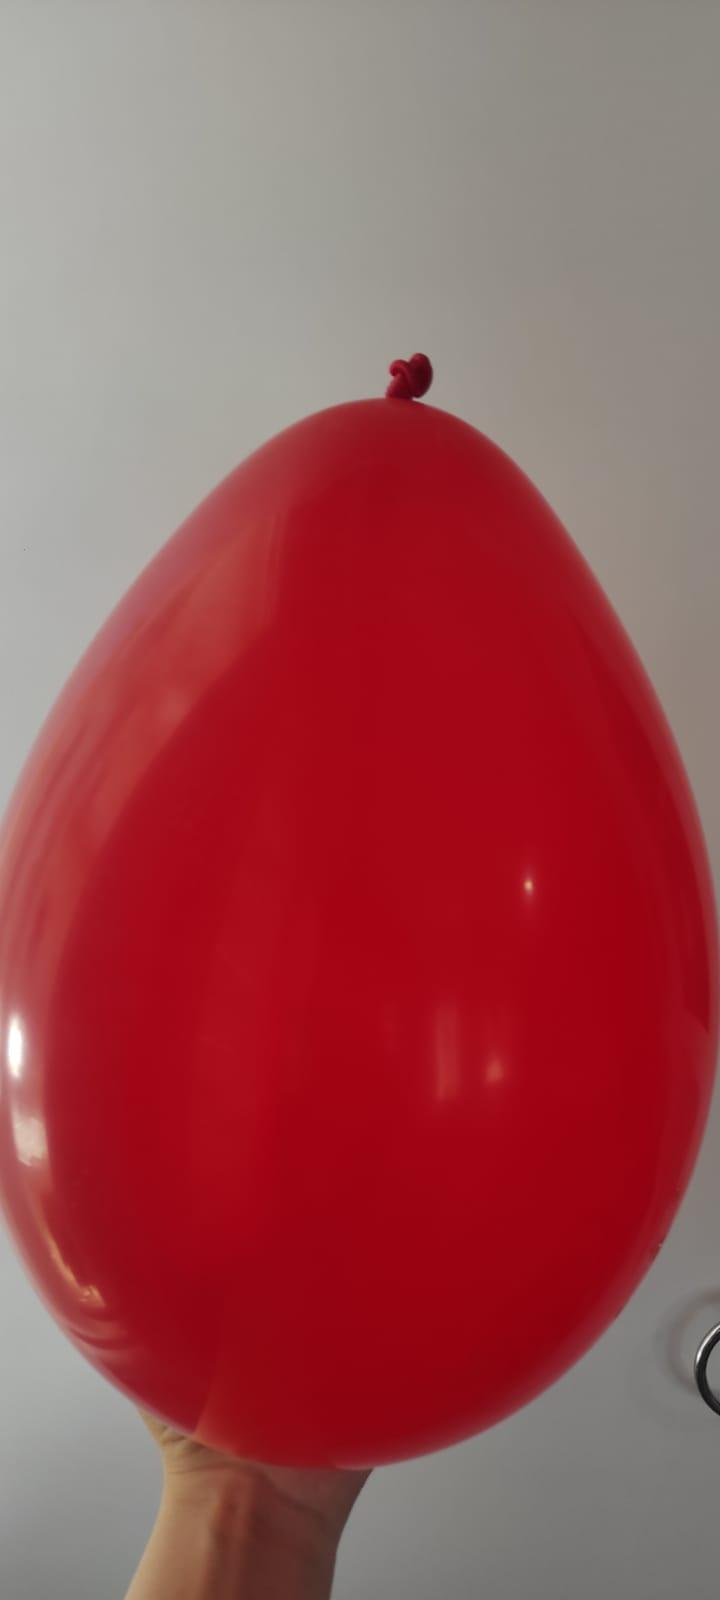red: (0, 347, 720, 1478)
